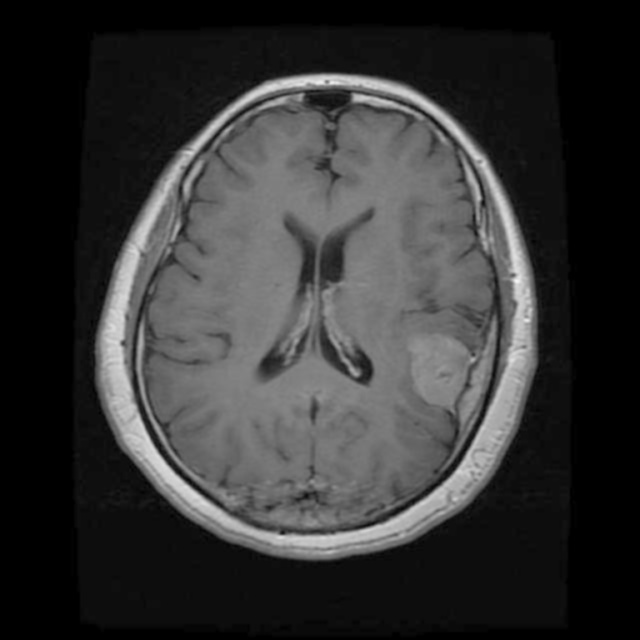meningioma tumor: (409, 331, 475, 419)
